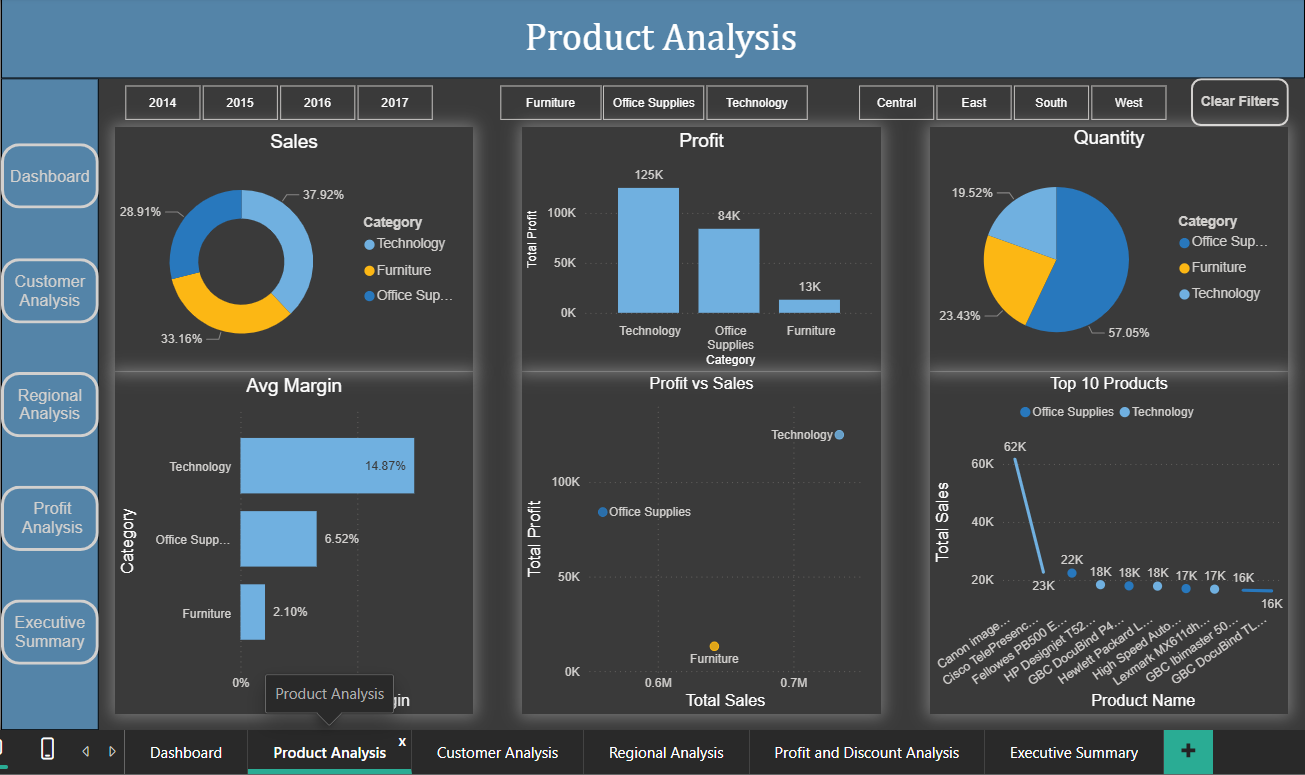

The page's visual inventory and layout, read from the dashboard file:
{"tool":"powerbi","page":{"name":"Product Analysis","canvas":[1280,720],"ordinal":1},"visuals":[{"type":"slicer","fields":{"Values":["Sample - Superstore.year"]},"box":[96,80,352,48],"z":0},{"type":"slicer","fields":{"Values":["Sample - Superstore.Category"]},"box":[464,80,352,48],"z":1000},{"type":"slicer","fields":{"Values":["Sample - Superstore.Region"]},"box":[816,80,352,48],"z":2000},{"type":"shape","box":[0,80,96,640],"z":3000},{"type":"actionButton","box":[0,144,96,64],"z":4000},{"type":"actionButton","box":[0,256,96,64],"z":5000},{"type":"actionButton","box":[0,368,96,64],"z":6000},{"type":"actionButton","box":[0,480,96,64],"z":7000},{"type":"shape","box":[0,0,1280,80],"z":8000},{"type":"actionButton","box":[1168,80,96,47],"z":9000},{"type":"textbox","box":[400,0,496,80],"z":10000},{"type":"donutChart","title":"Sales","fields":{"Y":["Sample - Superstore.Total Sales"],"Category":["Sample - Superstore.Category"]},"box":[112,128,352,240],"z":11000},{"type":"columnChart","title":"Profit ","fields":{"Category":["Sample - Superstore.Category"],"Y":["Sample - Superstore.Total Profit"]},"box":[512,128,352,240],"z":12000},{"type":"pieChart","title":"Quantity ","fields":{"Y":["Sample - Superstore.Total Quantity"],"Category":["Sample - Superstore.Category"]},"box":[912,128,352,240],"z":13000},{"type":"clusteredBarChart","title":"Avg Margin ","fields":{"Category":["Sample - Superstore.Category"],"Y":["Sample - Superstore.Avg Margin"]},"box":[112,368,352,336],"z":14000},{"type":"scatterChart","title":"Profit vs Sales","fields":{"X":["Sample - Superstore.Total Sales"],"Y":["Sample - Superstore.Total Profit"],"Series":["Sample - Superstore.Category"]},"box":[512,368,352,336],"z":15000},{"type":"lineChart","title":"Top 10 Products","fields":{"Category":["Sample - Superstore.Product Name"],"Y":["Sample - Superstore.Total Sales"],"Series":["Sample - Superstore.Category"]},"box":[912,368,352,336],"z":16000},{"type":"actionButton","box":[0,592,96,64],"z":16001}]}

Visuals, with their boxes on the page's 1280x720 design canvas (x1, y1, x2, y2). These are canvas units, not pixel positions in the 1305x775 screenshot, which may show the page scaled, cropped or inside an application window:
slicer - Sample - Superstore.year: (96,80,448,128)
slicer - Sample - Superstore.Category: (464,80,816,128)
slicer - Sample - Superstore.Region: (816,80,1168,128)
shape: (0,80,96,720)
actionButton: (0,144,96,208)
actionButton: (0,256,96,320)
actionButton: (0,368,96,432)
actionButton: (0,480,96,544)
shape: (0,0,1280,80)
actionButton: (1168,80,1264,127)
textbox: (400,0,896,80)
"Sales" donutChart: (112,128,464,368)
"Profit " columnChart: (512,128,864,368)
"Quantity " pieChart: (912,128,1264,368)
"Avg Margin " clusteredBarChart: (112,368,464,704)
"Profit vs Sales" scatterChart: (512,368,864,704)
"Top 10 Products" lineChart: (912,368,1264,704)
actionButton: (0,592,96,656)
